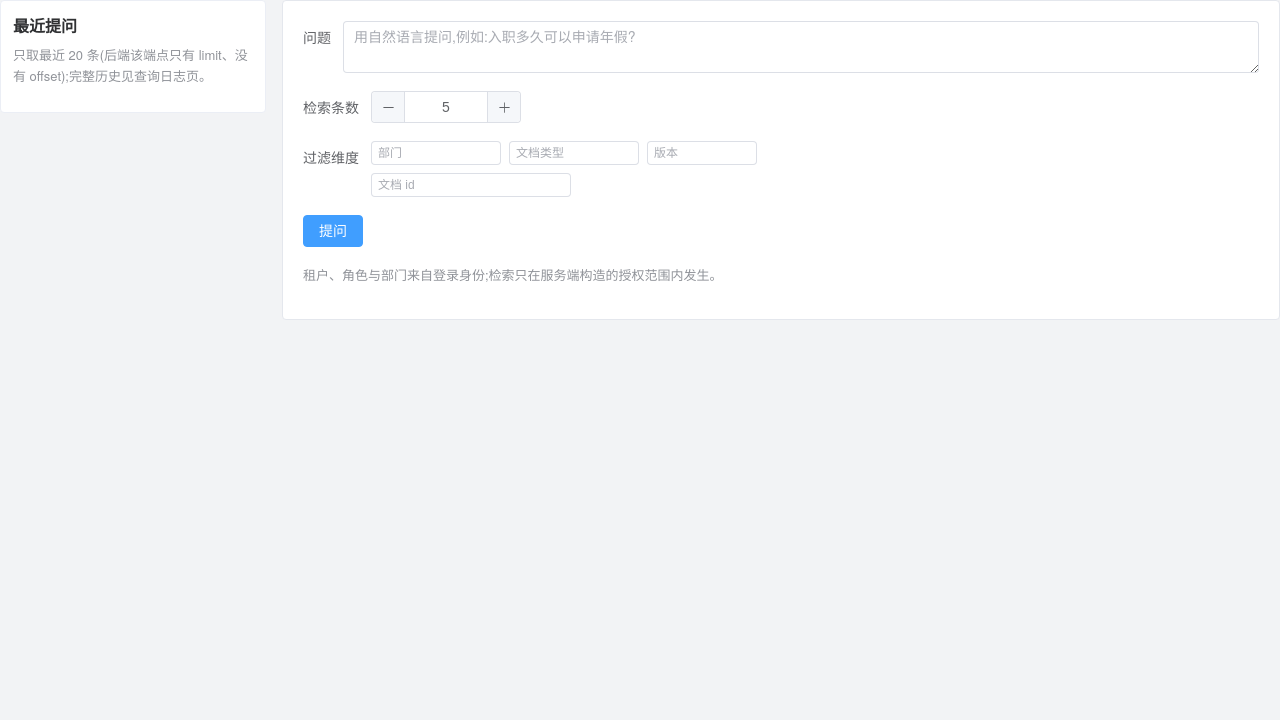
Test case: 组件行为 › 问答页 › 拒答时显示拒答提示且不渲染引用列表
Type "量子计算怎么学?" into the text box with test id "chat-question".
click(801, 47); type("量子计算怎么学?")  # box top-left (343, 21), bottom-right (1259, 73)
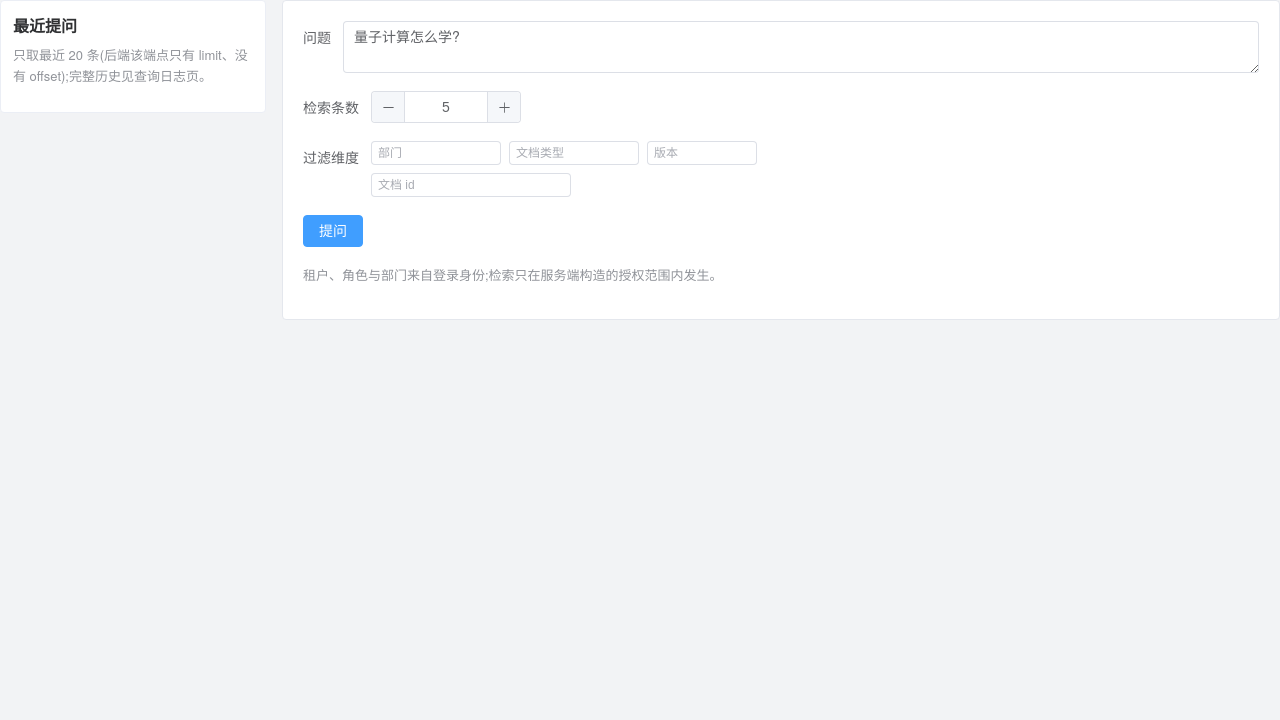
Click the button with test id "chat-submit".
click(333, 231)  # box top-left (303, 215), bottom-right (363, 247)
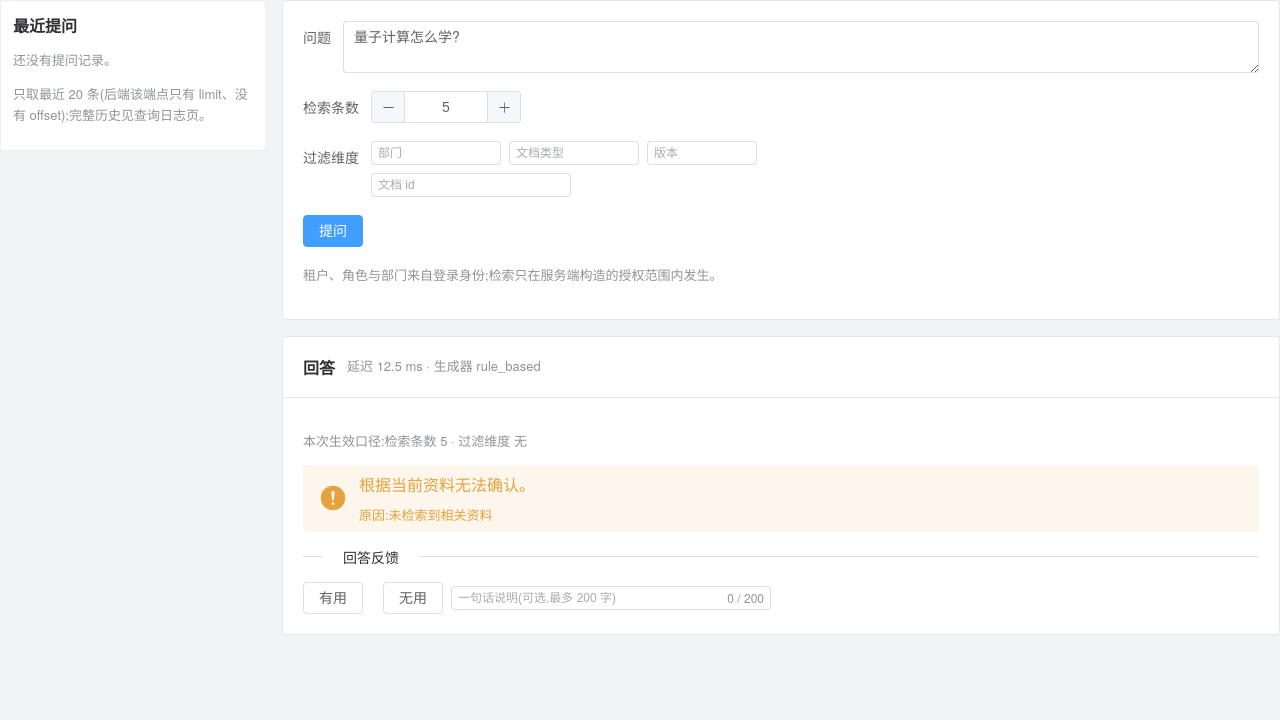
Result: the element with test id "chat-refusal" is shown at top-left (303, 465), bottom-right (1259, 532)
Result: the element with test id "chat-refusal" shows "未检索到相关资料" at top-left (359, 505), bottom-right (493, 524)
